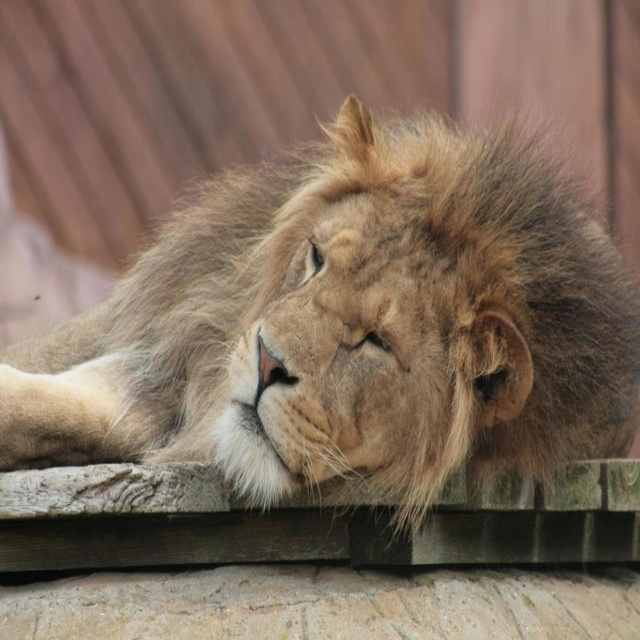Lion: (0, 88, 640, 554)
